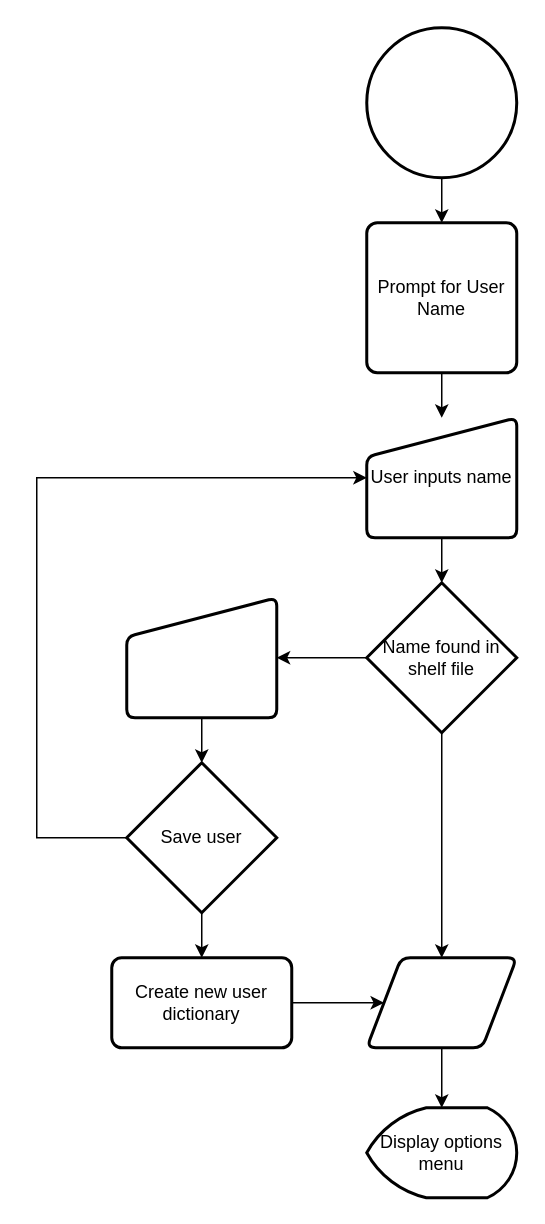
Image size: 545x1224. Some labels were removed from this diagram. Each missing label, with the centre of its shape:
Instantiate User: point (441, 102)
Load user dictionary: point (441, 1002)
Prompt to save new user: point (201, 657)
